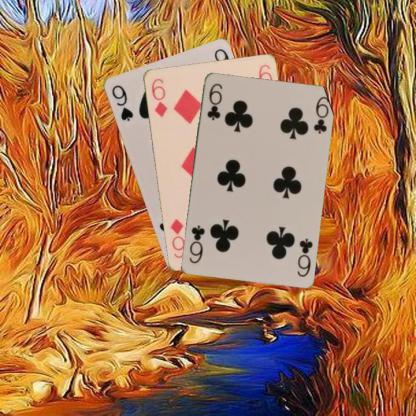6c: (294, 235, 314, 278), (204, 80, 224, 122)
6d: (148, 76, 168, 118)
9s: (109, 82, 134, 122)
